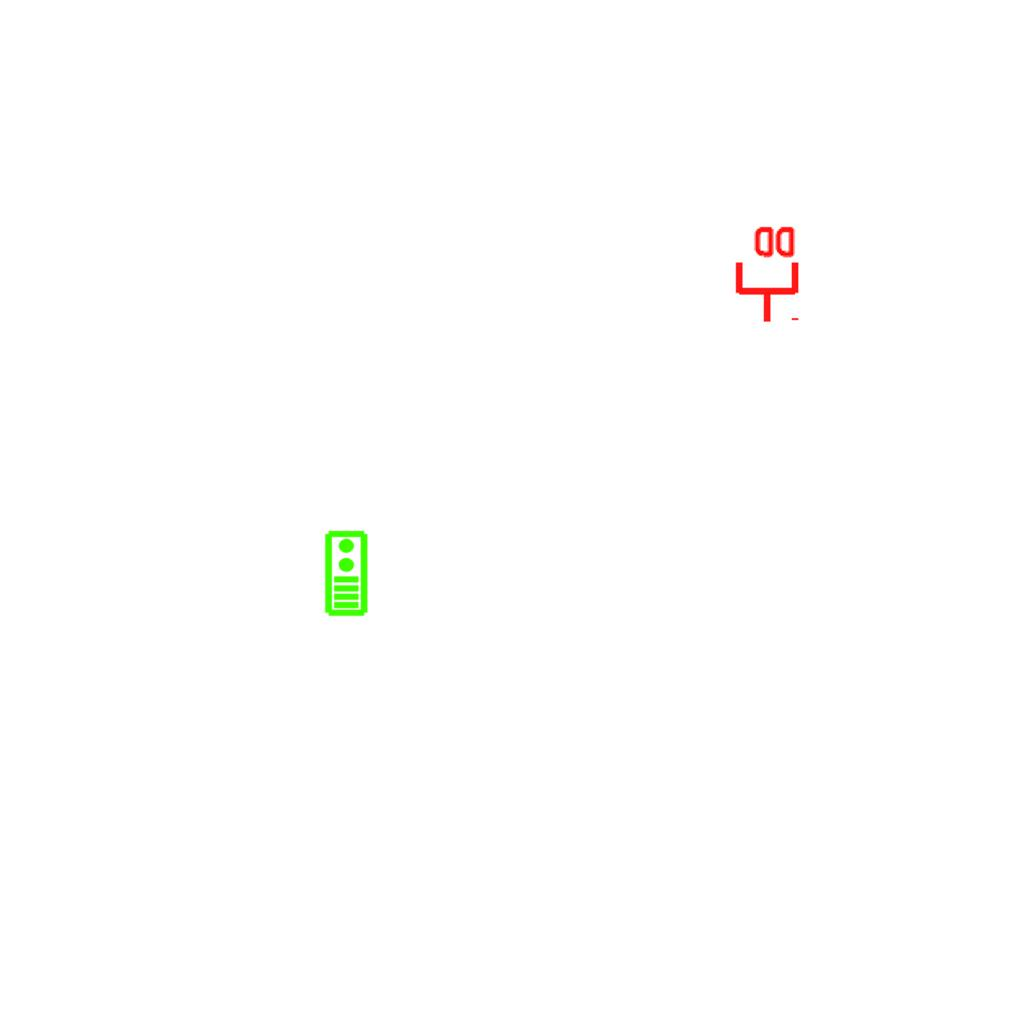Datenanschluss_zweifach: (731, 222, 800, 325)
Gegensprechanlage_mit_Video: (322, 529, 369, 617)
